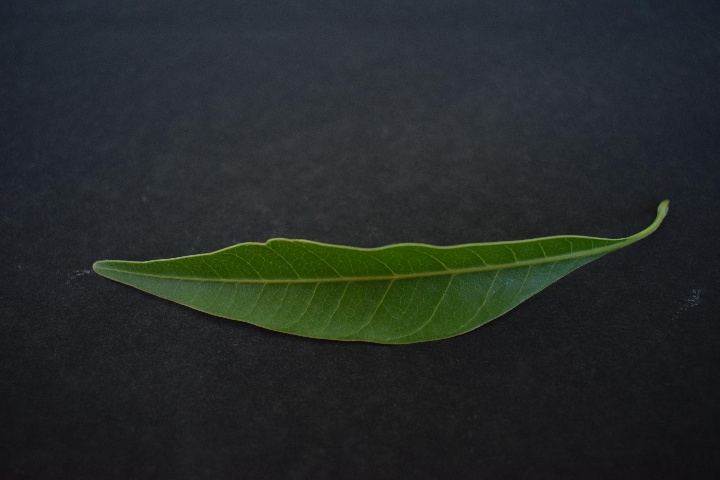healthy: (85, 225, 668, 355)
